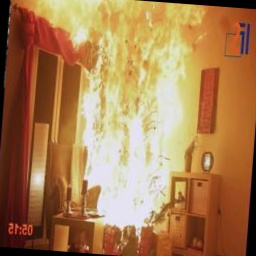fire: (47, 0, 215, 238)
